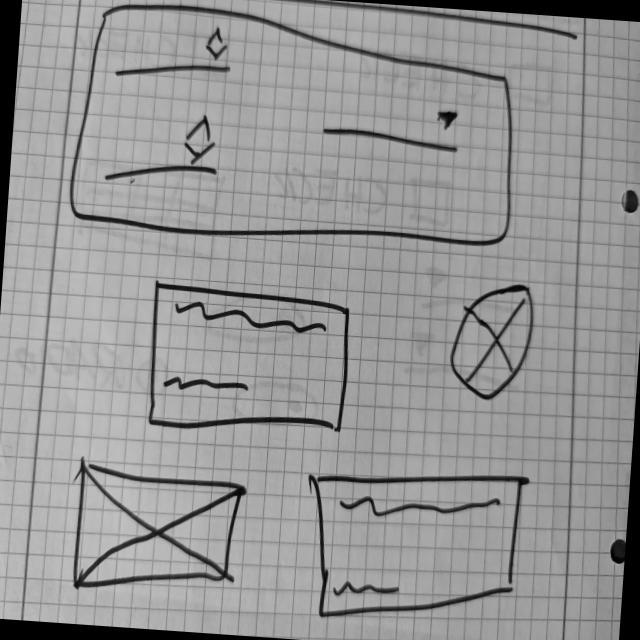container: (66, 1, 526, 258)
number-input: (102, 106, 225, 192), (115, 17, 236, 86)
select: (143, 280, 358, 444), (319, 93, 464, 156)
